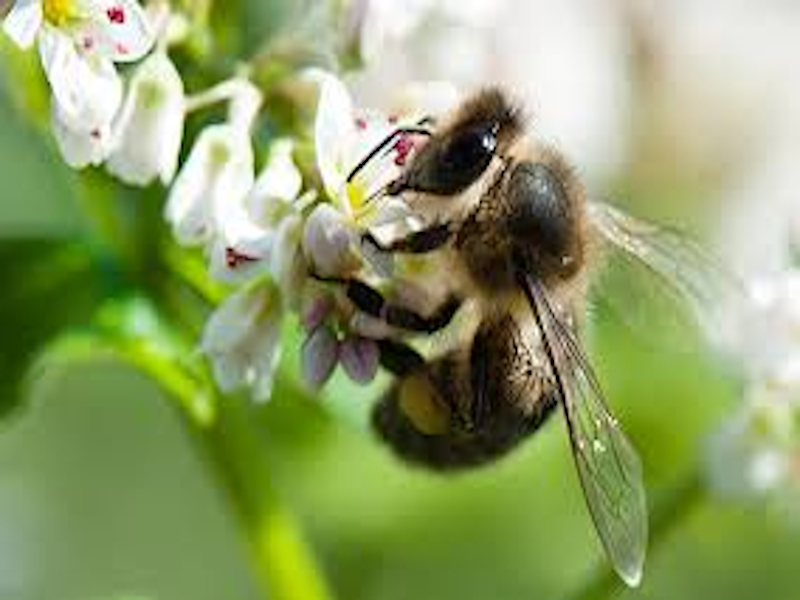abeja: (316, 92, 750, 595)
